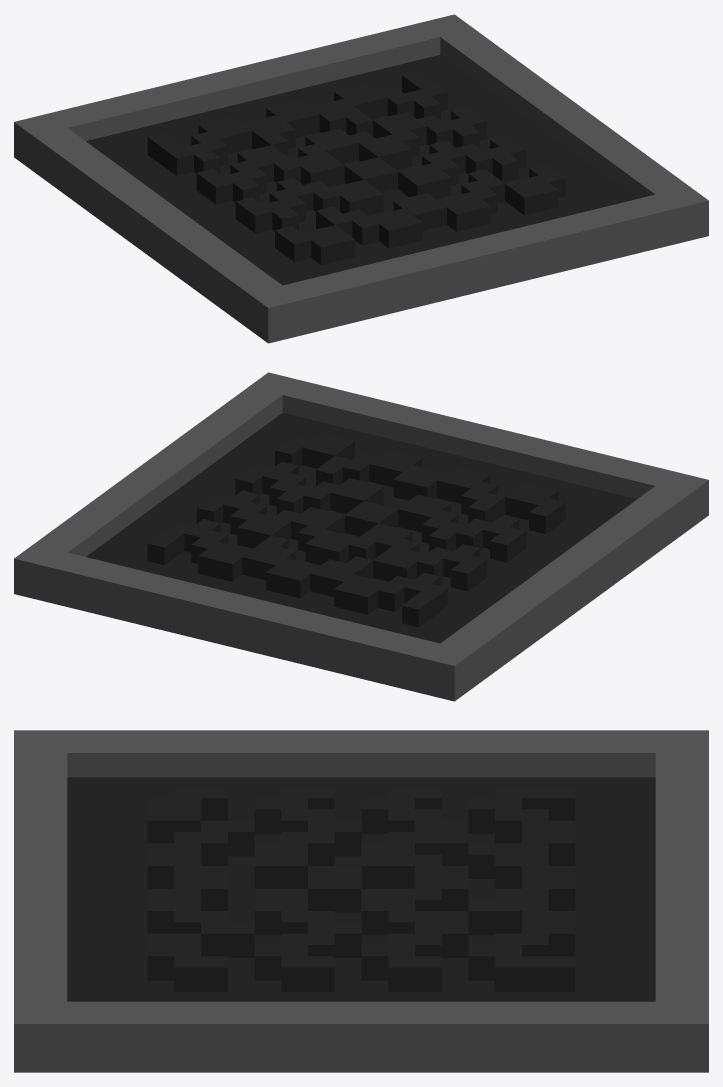
The model's file is trap_WAVES_BLACK.glb.
The picture shows the model from 3 angles, top to bottom: view 1: azimuth 30°, elevation 25°; view 2: azimuth 150°, elevation 25°; view 3: azimuth 270°, elevation 25°; orthographic projection. The views are drawn at different scales.
Visible parts, largest first — view 1: item_TRAP_WAVES_BLACK; view 2: item_TRAP_WAVES_BLACK; view 3: item_TRAP_WAVES_BLACK.
Boxes of the visible parts, x1=… form: item_TRAP_WAVES_BLACK: x1=14, y1=14, x2=708, y2=343; item_TRAP_WAVES_BLACK: x1=14, y1=372, x2=708, y2=701; item_TRAP_WAVES_BLACK: x1=14, y1=730, x2=708, y2=1072.
Size of the model in its own units: 0.5909 by 0.0455 by 0.5909.
Materials: 1 (1 with a texture image).
